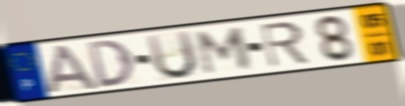8: (313, 13, 355, 63)
A: (45, 43, 102, 95)
D: (84, 37, 137, 90)
M: (195, 25, 254, 76)
R: (257, 20, 312, 70)
U: (143, 28, 200, 82)
